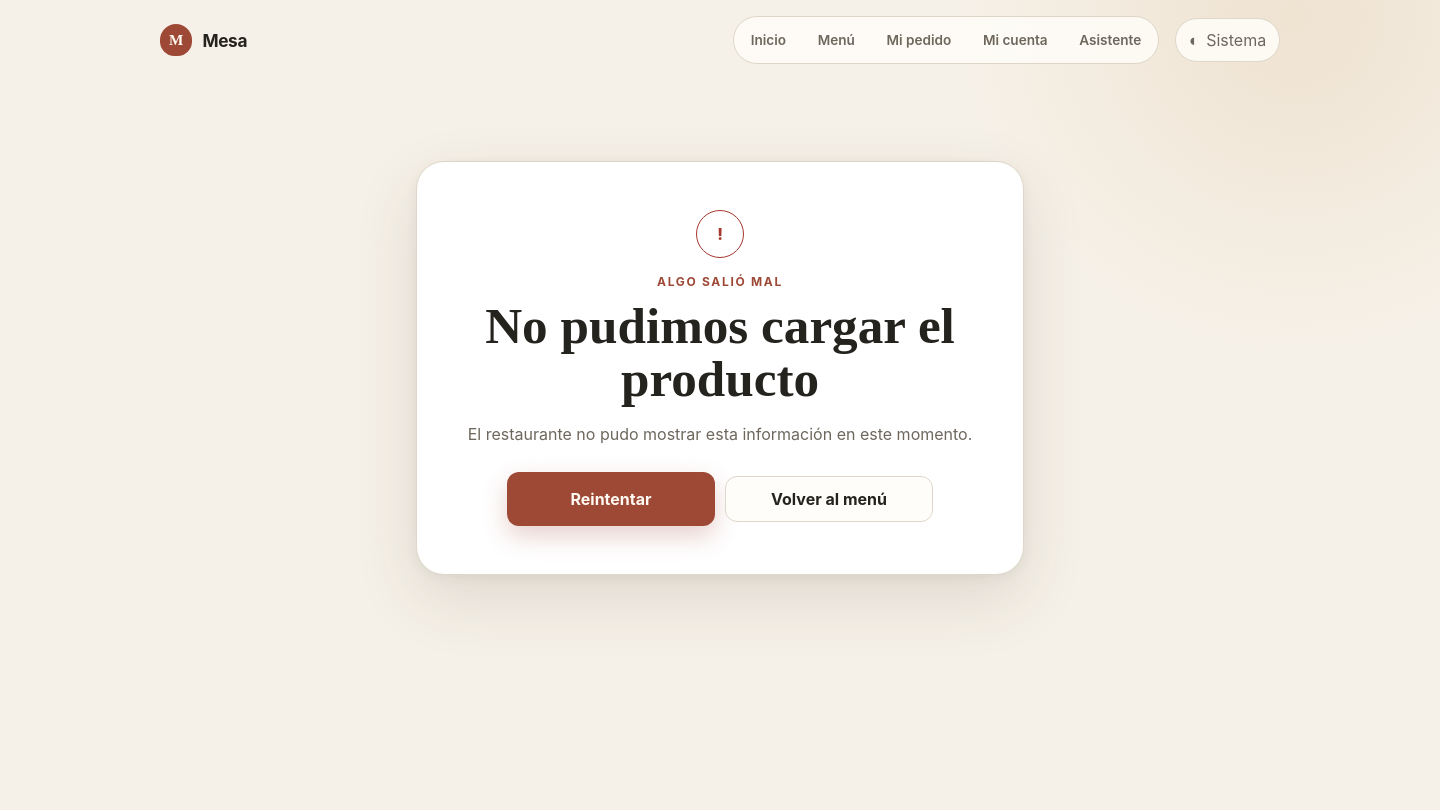
Test: product detail › recovers from a controlled transient error
This screenshot has width=1440, height=810.
Expected: the heading "No pudimos cargar el producto" is shown, [465, 299, 975, 406]
Step 1. Click the button "Reintentar" → point(611, 499), box [507, 472, 715, 526]
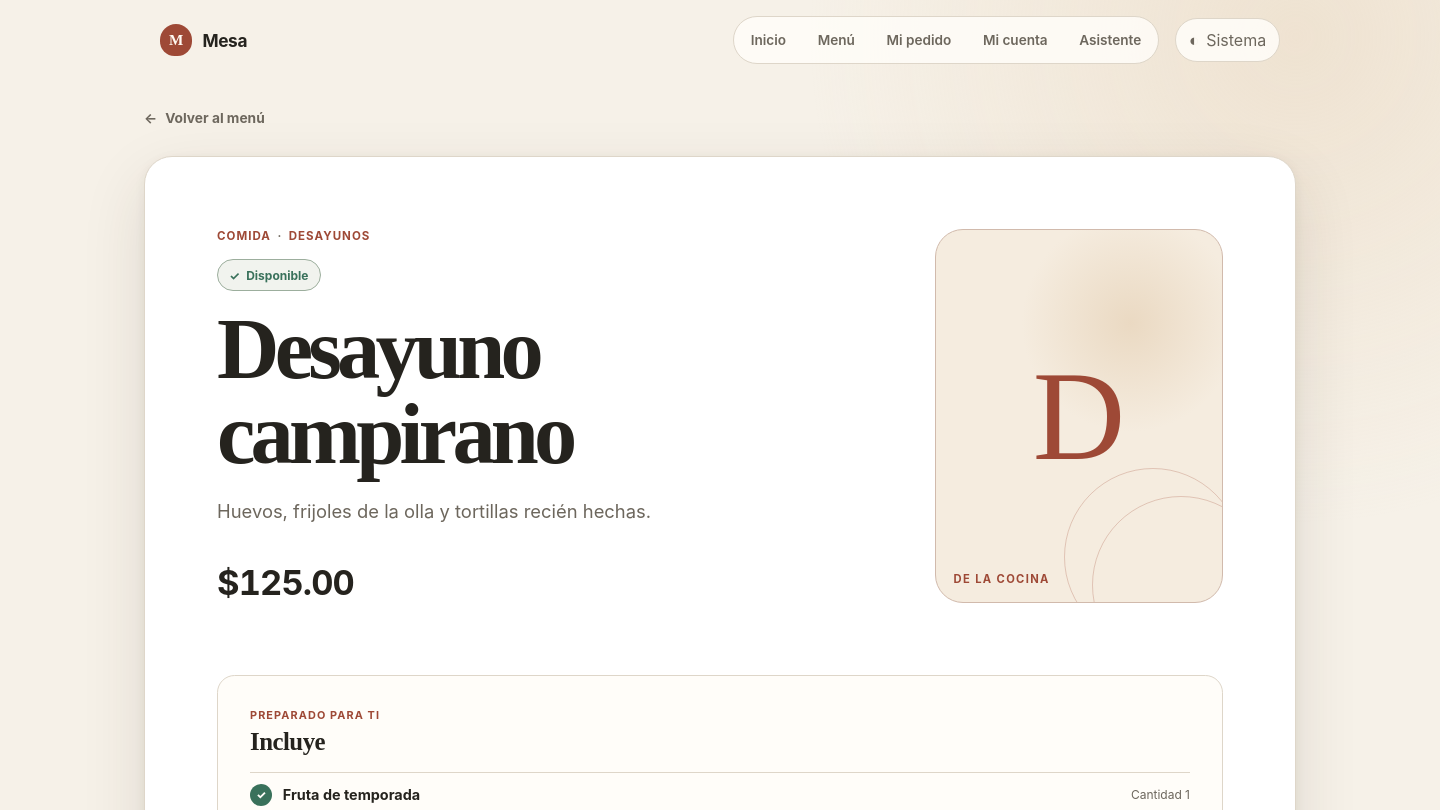
Now the heading "Desayuno campirano" is shown, box [217, 301, 573, 482]
